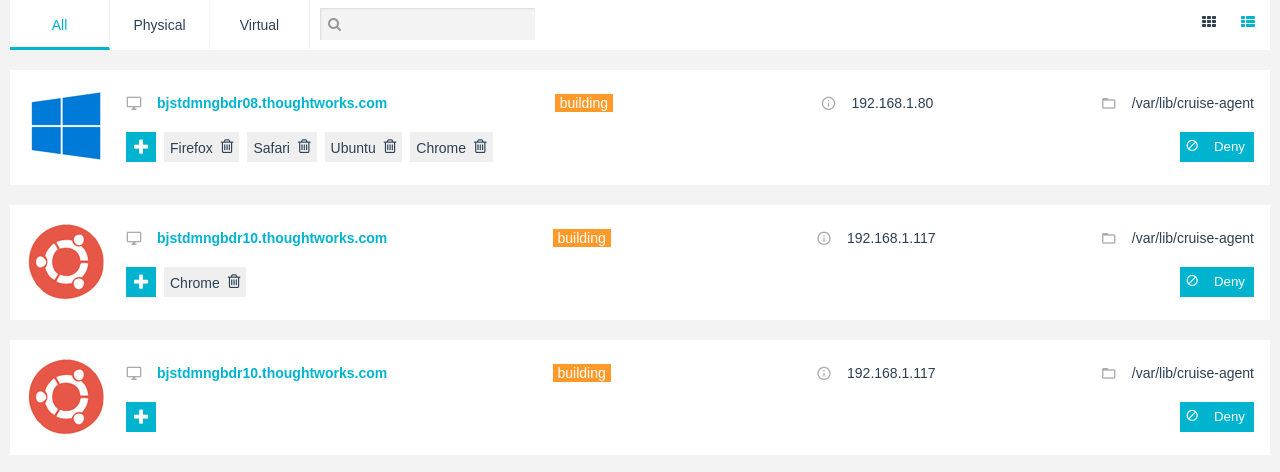
Test: AgentList › should render virtual agent when click virtual button
What coordinates should you click on to do the following:
click the element with test id "Virtual"
I would click on:
 (260, 25)
Its box is [210,0,310,50].
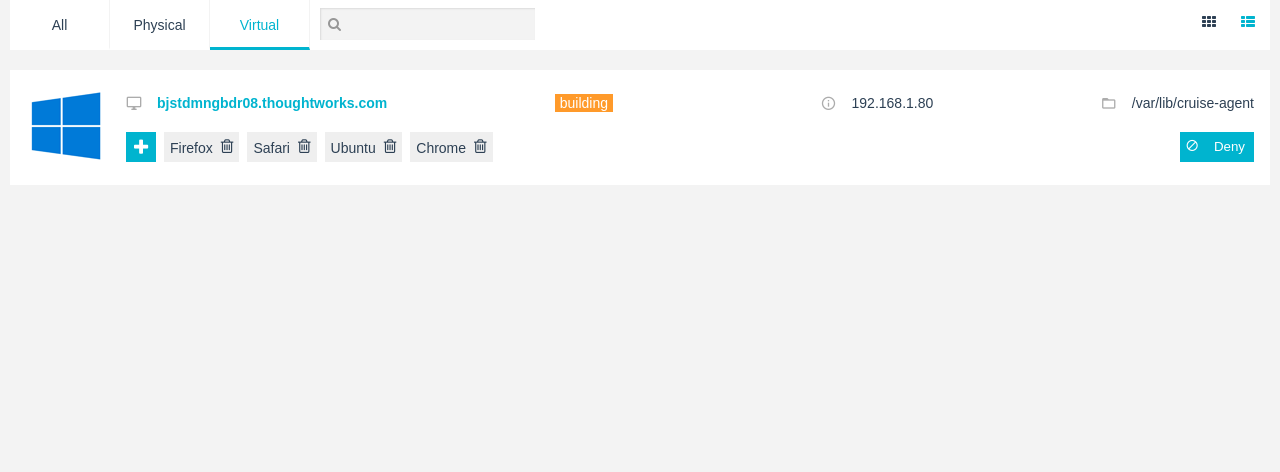
Check: the number of list items is 1, box [10,70,1270,185]
